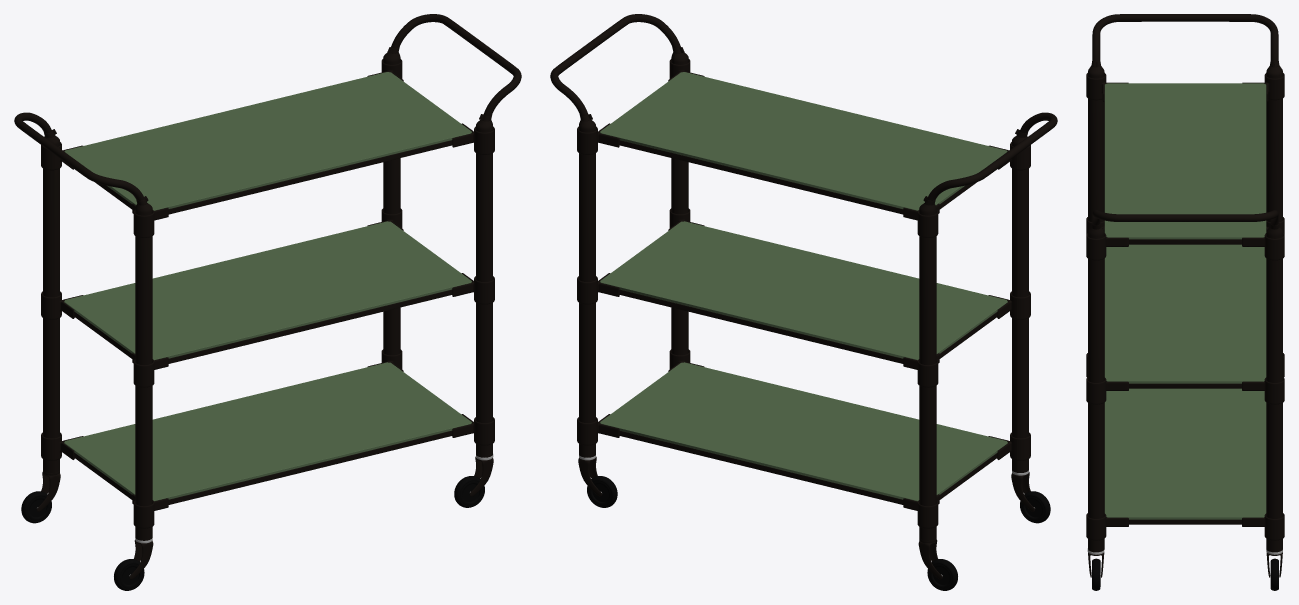
The model's file is foodTrolly.FBX.
The picture shows the model from 3 angles, left to right: view 1: azimuth 30°, elevation 25°; view 2: azimuth 150°, elevation 25°; view 3: azimuth 270°, elevation 25°; orthographic projection. The views are drawn at different scales.
Visible parts, largest first — view 1: Group009, Cylinder00, Line002, Line002.Line003, Cylinder02.Cylinder03, Cylinder02, Cylinder02.Cylinder07; view 2: Group009, Cylinder00, Line002, Line002.Line003, Cylinder02.Cylinder05, Cylinder02, Cylinder02.Cylinder07; view 3: Group009, Cylinder00, Line002.Line003, Line002, Cylinder02.Cylinder03, Cylinder02.Cylinder05.
Part boxes in pixels (bbox=[...]): Group009: bbox=[41, 46, 494, 528]; Cylinder00: bbox=[43, 52, 492, 540]; Line002: bbox=[391, 14, 521, 115]; Line002.Line003: bbox=[14, 112, 144, 200]; Cylinder02.Cylinder03: bbox=[454, 476, 484, 507]; Cylinder02: bbox=[114, 559, 144, 590]; Cylinder02.Cylinder07: bbox=[21, 491, 51, 523]; Group009: bbox=[577, 46, 1030, 528]; Cylinder00: bbox=[579, 52, 1028, 540]; Line002: bbox=[550, 14, 680, 115]; Line002.Line003: bbox=[927, 112, 1057, 200]; Cylinder02.Cylinder05: bbox=[587, 476, 617, 507]; Cylinder02: bbox=[1020, 491, 1050, 523]; Cylinder02.Cylinder07: bbox=[927, 559, 957, 590]; Group009: bbox=[1086, 60, 1284, 540]; Cylinder00: bbox=[1088, 65, 1282, 552]; Line002.Line003: bbox=[1092, 14, 1278, 61]; Line002: bbox=[1092, 210, 1278, 225]; Cylinder02.Cylinder03: bbox=[1092, 558, 1100, 590]; Cylinder02.Cylinder05: bbox=[1270, 558, 1278, 590].
Size of the model in its own units: 100 by 92.33 by 41.35.
